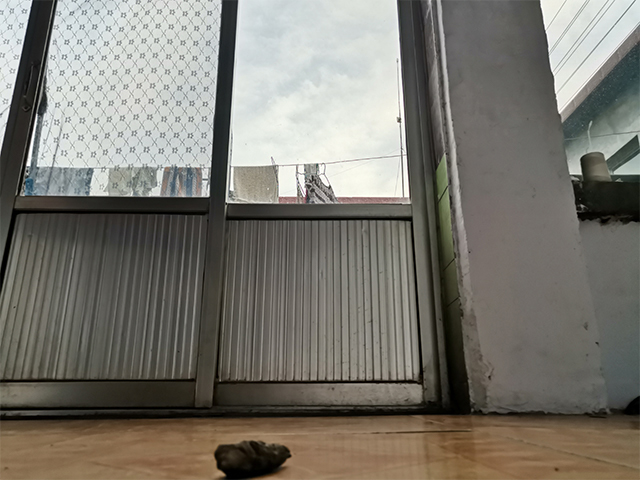feces: (212, 439, 294, 480)
